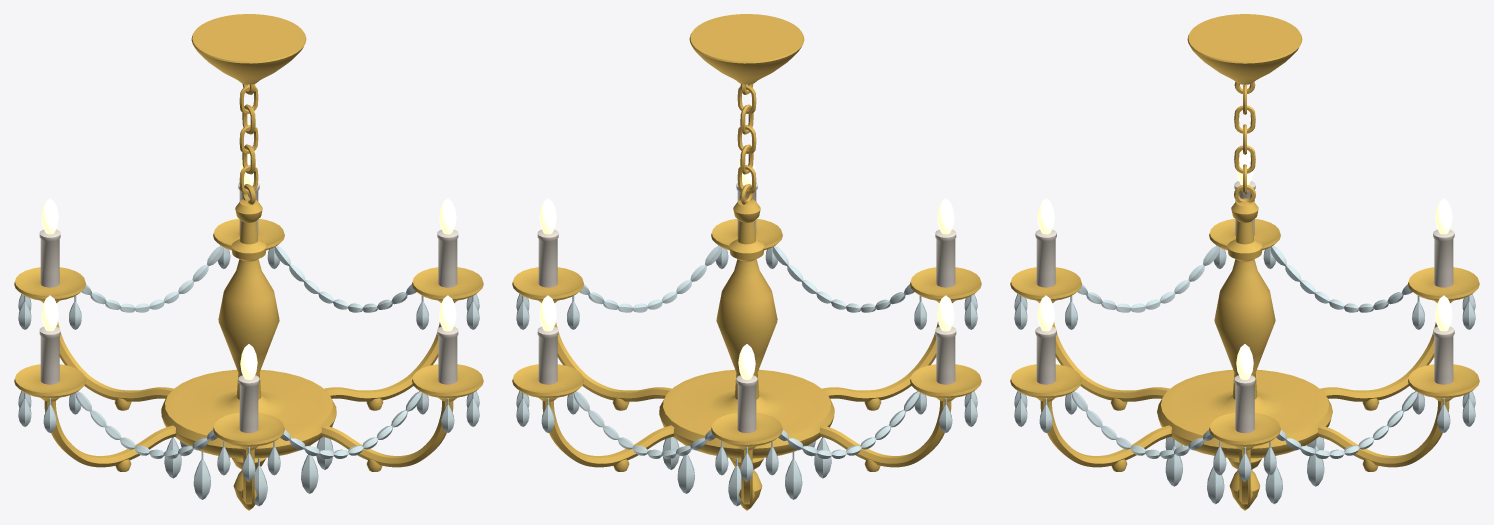
File: chandelier.glb
The picture shows the model from 3 angles, left to right: view 1: azimuth 30°, elevation 25°; view 2: azimuth 150°, elevation 25°; view 3: azimuth 270°, elevation 25°; orthographic projection.
Parts seen in each view (by area): view 1: chandelier_body, chandelier_bulbs_glow; view 2: chandelier_body, chandelier_bulbs_glow; view 3: chandelier_body, chandelier_bulbs_glow.
Part boxes in pixels (x1,y1,x2,y2): chandelier_body: [14, 14, 483, 510]; chandelier_bulbs_glow: [41, 153, 456, 379]; chandelier_body: [512, 14, 981, 510]; chandelier_bulbs_glow: [539, 153, 954, 379]; chandelier_body: [1010, 14, 1479, 510]; chandelier_bulbs_glow: [1037, 151, 1452, 379].
Size of the model in its own units: 0.6956 by 0.682 by 0.6136.
2 materials, 1 textured.
